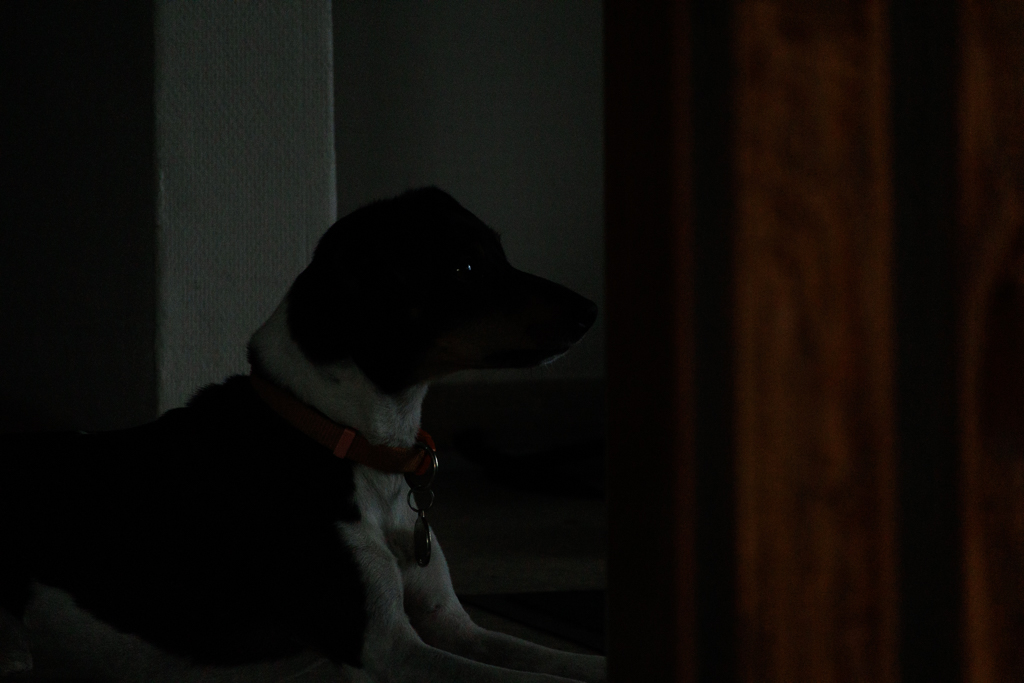Dog: (0, 173, 637, 683)
